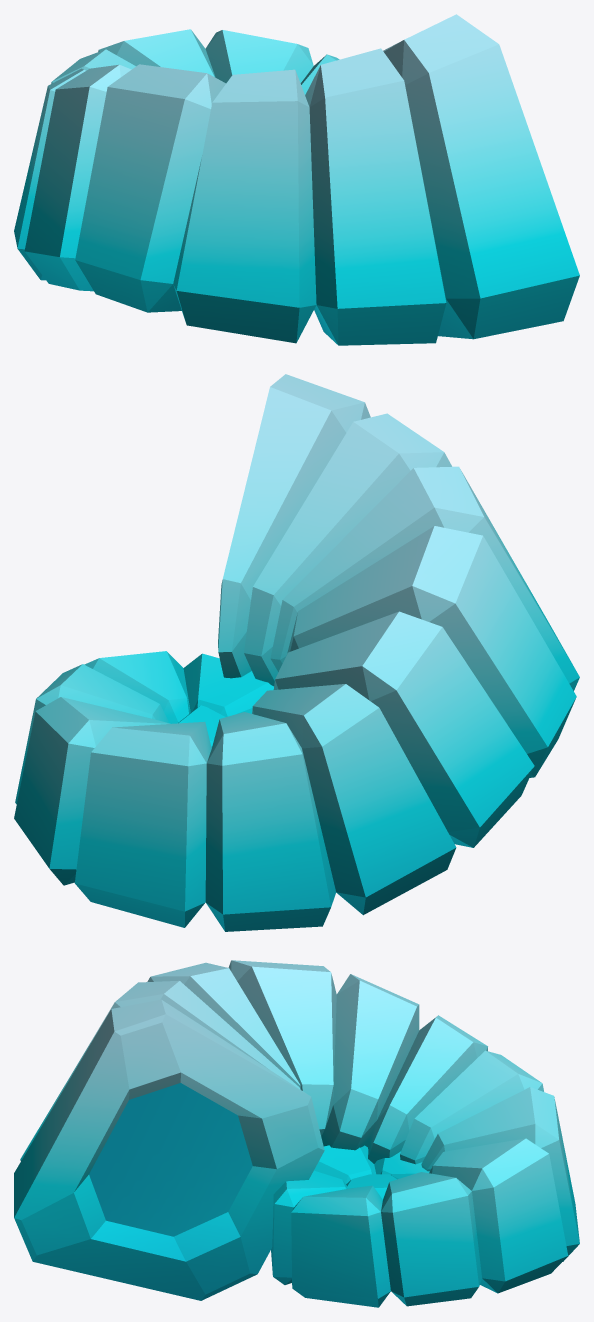
File: SeaShell_3.fbx
3 renders of one model, top to bottom at view 1: azimuth 30°, elevation 25°; view 2: azimuth 150°, elevation 25°; view 3: azimuth 270°, elevation 25°, orthographic. The views are drawn at different scales.
Visible parts, largest first — view 1: SeaShell_3; view 2: SeaShell_3; view 3: SeaShell_3.
Boxes of the visible parts, x1,y1,x2,y2 form: SeaShell_3: (14, 14, 579, 345); SeaShell_3: (14, 374, 579, 931); SeaShell_3: (14, 960, 579, 1307).
Size of the model in its own units: 171 by 133 by 235.
